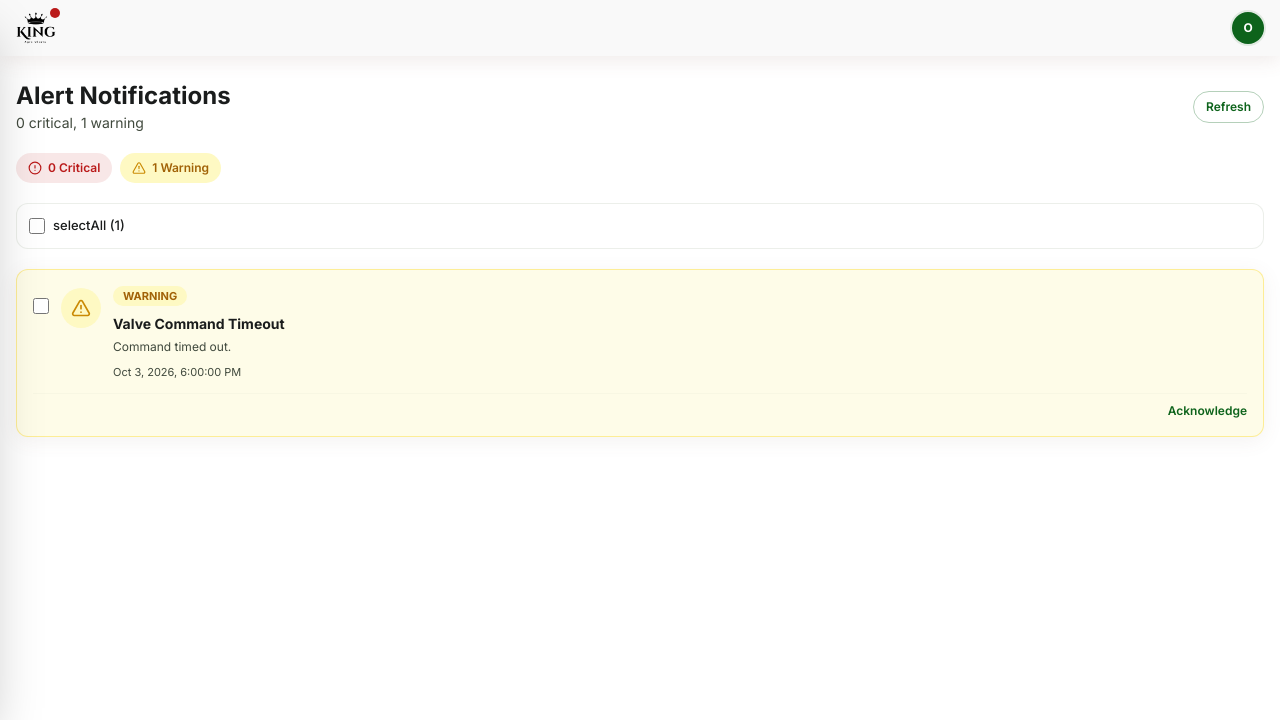
Notifications UI - User-Scoped Acknowledgement State › renders unacknowledged warning alert with Acknowledge action and transitions on direct acknowledge
The image size is (1280, 720).
Check: the text "1 Warning" is shown, box [152, 159, 209, 177]
# Click acknowledge
Click the button with test id "btn-acknowledge-alert-1" at (1207, 410), box [1168, 402, 1247, 420]
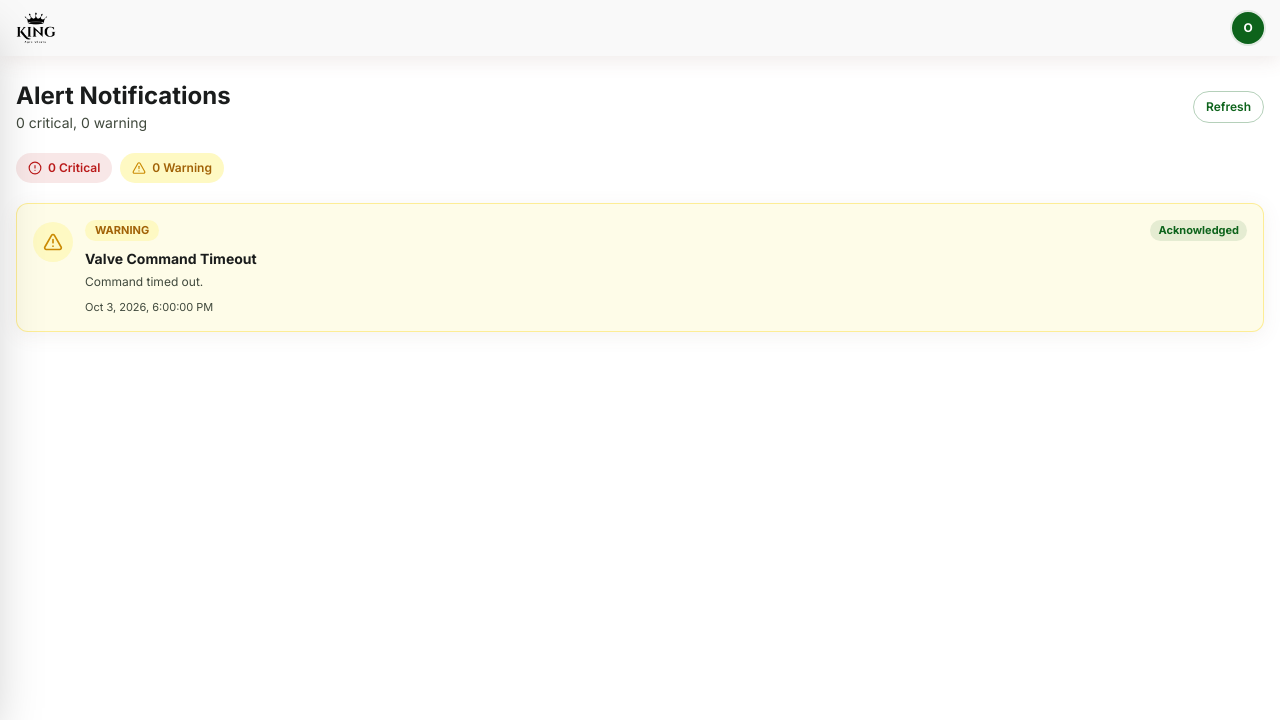
Check: the text "Acknowledged" is shown, box [1150, 220, 1247, 240]
Check: the text "0 Warning" is shown, box [152, 159, 212, 177]
Check: the button with test id "btn-acknowledge-alert-1" is gone
